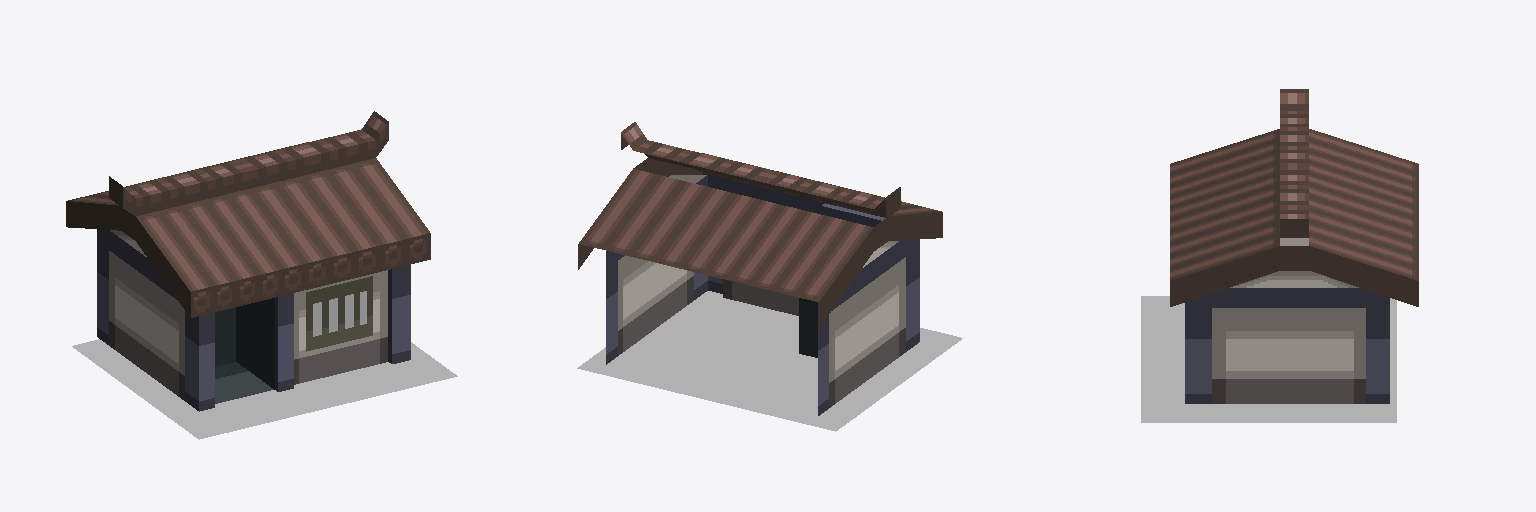
3 renders of one model, left to right at view 1: azimuth 30°, elevation 25°; view 2: azimuth 150°, elevation 25°; view 3: azimuth 270°, elevation 25°, orthographic.
Parts seen in each view (by area): view 1: polygon1, polygon0, polygon2; view 2: polygon1, polygon0; view 3: polygon1, polygon0.
Boxes of the visible parts, box(x1,y1,x2,y2) form: polygon1: box(66, 111, 430, 411); polygon0: box(72, 339, 457, 439); polygon2: box(313, 291, 366, 336); polygon1: box(578, 122, 942, 415); polygon0: box(577, 291, 962, 431); polygon1: box(1170, 89, 1418, 403); polygon0: box(1141, 296, 1396, 422).
Size of the model in its own units: 10.5 by 7.71 by 9.5.
Materials: 3 (1 with a texture image).